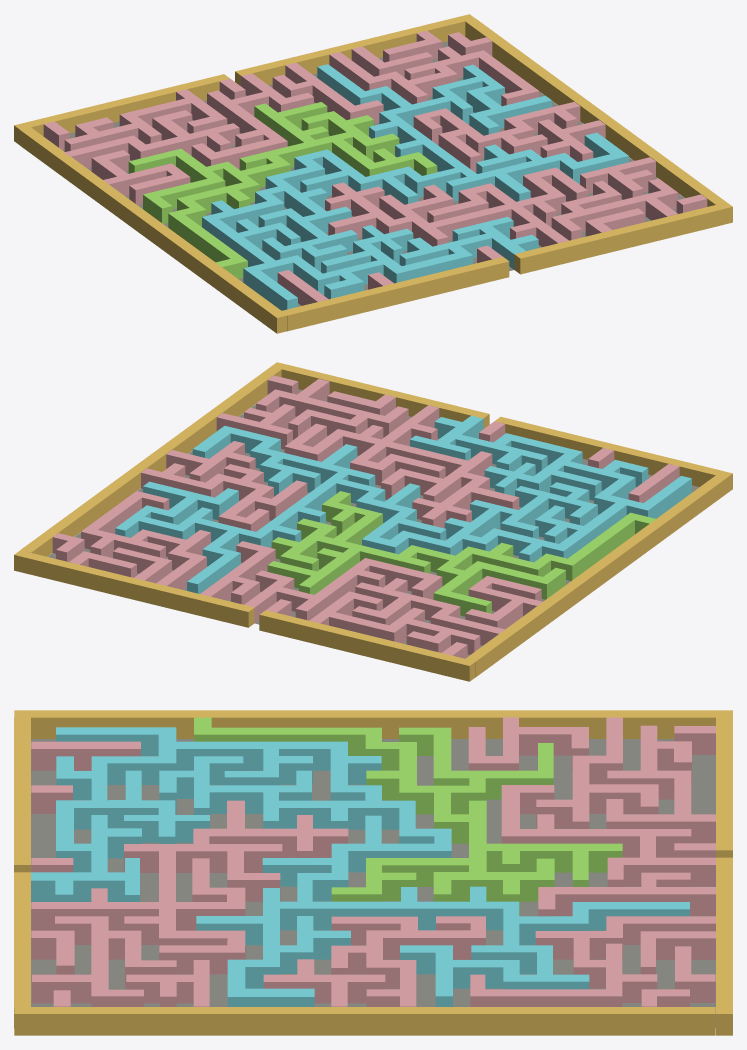
The model's file is m迷宫(1).fbx.
3 views of the same model, one above another, from view 1: azimuth 30°, elevation 25°; view 2: azimuth 150°, elevation 25°; view 3: azimuth 270°, elevation 25° (orthographic). The views are drawn at different scales.
Visible parts, largest first — view 1: 平面, 平面.001; view 2: 平面, 平面.001; view 3: 平面, 平面.001.
Boxes of the visible parts, box(x1,y1,x2,y2) form: 平面: box(14, 14, 732, 333); 平面.001: box(62, 41, 684, 306); 平面: box(14, 362, 732, 681); 平面.001: box(47, 389, 699, 656); 平面: box(14, 710, 732, 1035); 平面.001: box(31, 739, 715, 1027).
Size of the model in its own units: 4194 by 139 by 4194.
